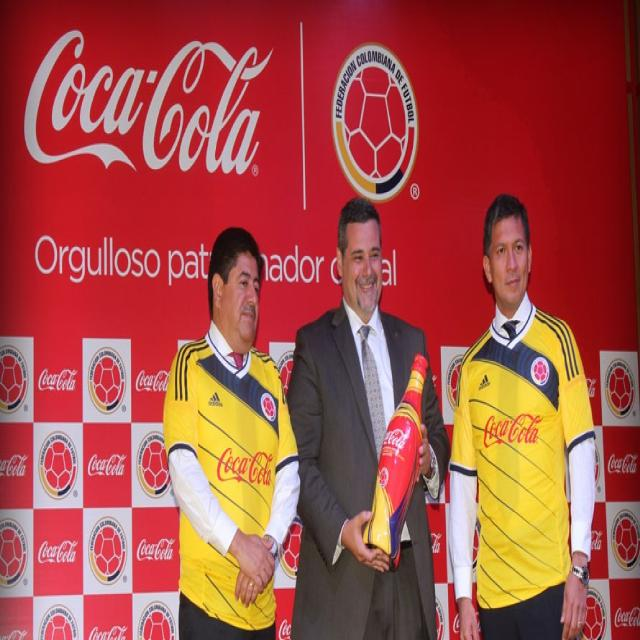coca cola: (20, 22, 278, 188), (215, 443, 274, 493), (482, 410, 546, 448), (36, 362, 78, 397)
